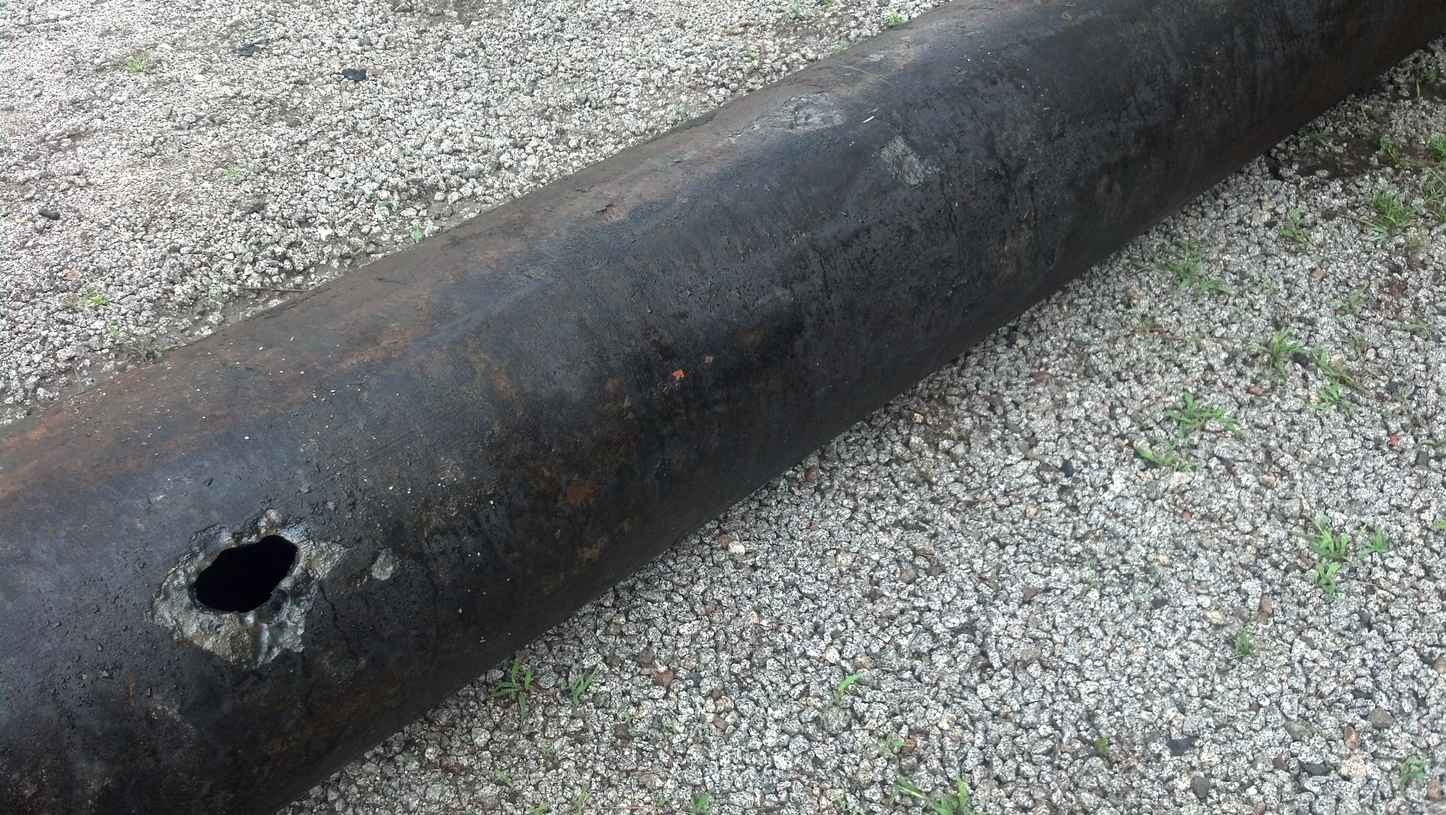hole: (184, 530, 306, 621)
